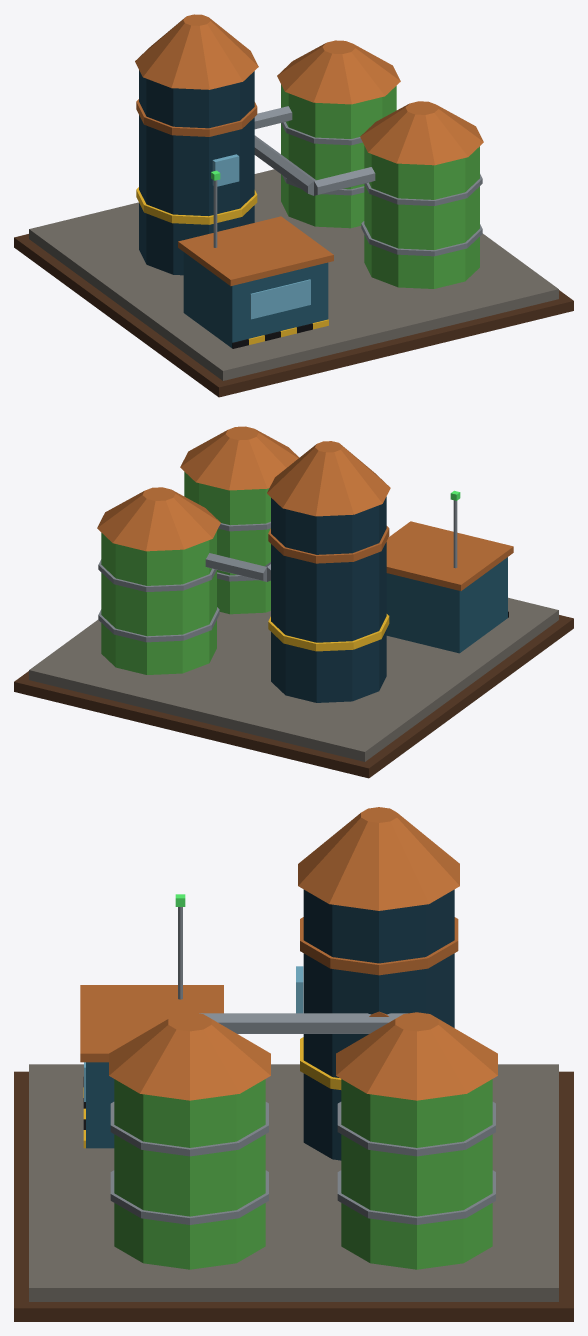
Rendered from chemical_plant.obj.
3 views of the same model, one above another, from view 1: azimuth 30°, elevation 25°; view 2: azimuth 150°, elevation 25°; view 3: azimuth 270°, elevation 25° (orthographic). The views are drawn at different scales.
Parts seen in each view (by area): view 1: Body, Tanks, Reactor, Control, Pipes; view 2: Body, Tanks, Reactor, Control, Pipes; view 3: Body, Tanks, Reactor, Control, Pipes.
Boxes of the visible parts, x1=… form: Body: x1=14, y1=169, x2=573, y2=397; Tanks: x1=277, y1=40, x2=483, y2=288; Reactor: x1=135, y1=14, x2=258, y2=275; Control: x1=178, y1=180, x2=333, y2=348; Pipes: x1=254, y1=106, x2=375, y2=195; Body: x1=14, y1=597, x2=573, y2=778; Tanks: x1=97, y1=426, x2=299, y2=674; Reactor: x1=267, y1=441, x2=390, y2=702; Control: x1=386, y1=500, x2=513, y2=653; Pipes: x1=205, y1=553, x2=270, y2=581; Body: x1=14, y1=1064, x2=573, y2=1321; Tanks: x1=109, y1=1012, x2=497, y2=1269; Reactor: x1=296, y1=807, x2=459, y2=1160; Control: x1=80, y1=907, x2=223, y2=1148; Pipes: x1=199, y1=1011, x2=407, y2=1033.
Size of the model in its own units: 2.96 by 2.01 by 2.96.
